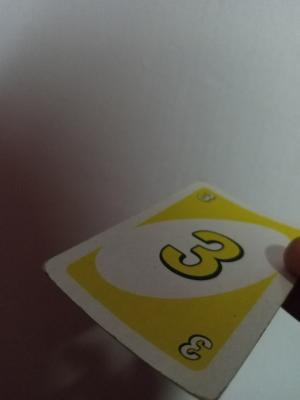yellow: (131, 226, 253, 344)
